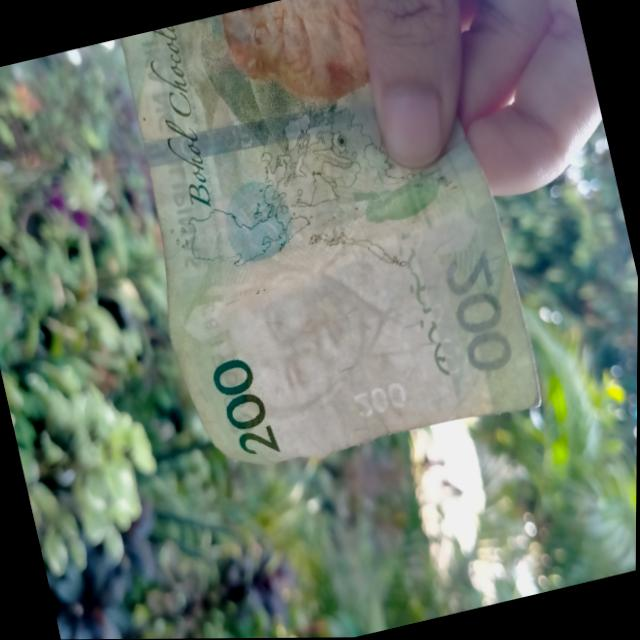security_thread: (141, 94, 378, 174)
see_through_mark: (388, 218, 466, 386)
value_watermark: (343, 369, 415, 430)
watermark: (202, 222, 441, 439)
